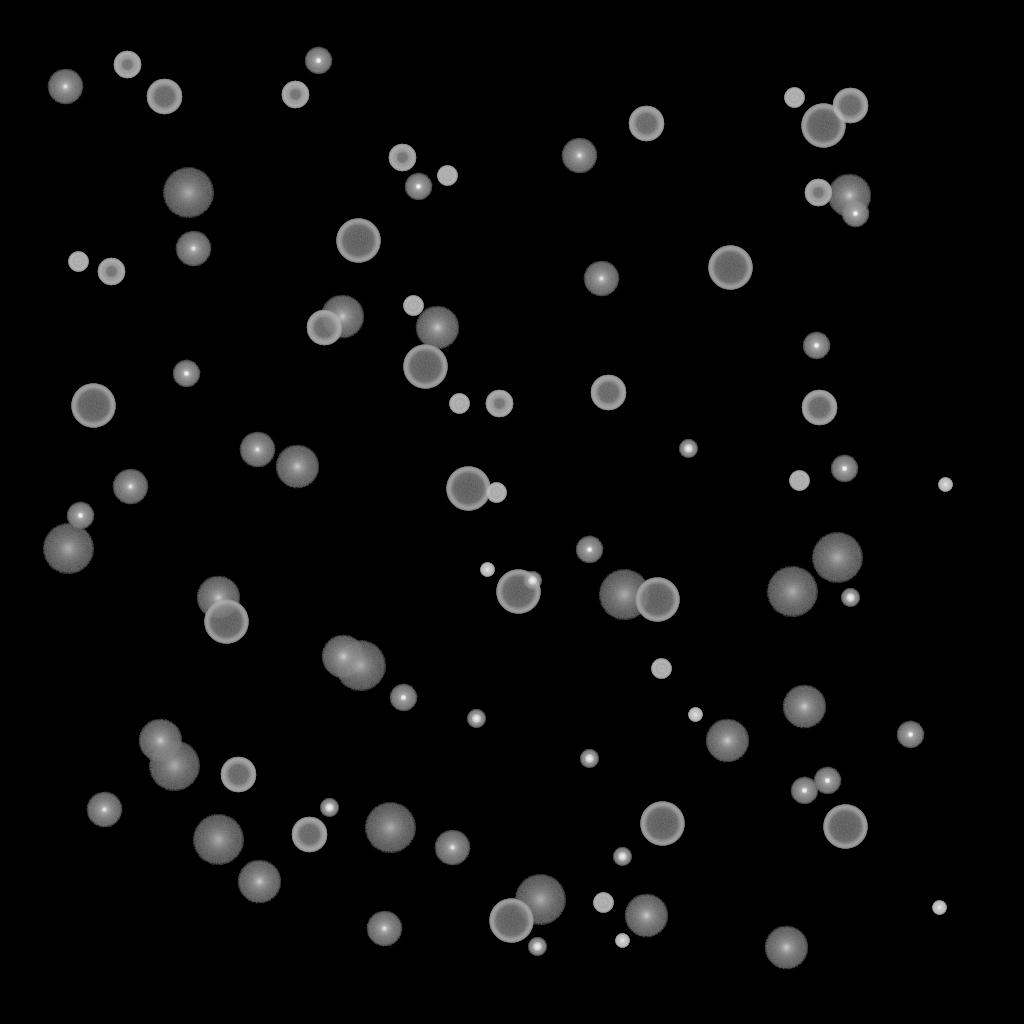depth:-10: (830, 455, 858, 483), (66, 502, 94, 530), (813, 767, 841, 795), (896, 721, 924, 749), (304, 47, 332, 75), (172, 360, 200, 388), (389, 684, 417, 712), (841, 200, 869, 228), (802, 332, 830, 360), (575, 536, 603, 564), (404, 173, 432, 201), (790, 777, 818, 805)
depth:-20: (528, 938, 546, 956), (523, 572, 541, 590), (613, 848, 631, 866), (580, 750, 598, 768), (467, 710, 485, 728), (679, 440, 697, 458), (841, 589, 859, 607), (320, 799, 338, 817)
depth:-30: (938, 478, 952, 492), (932, 901, 946, 915), (480, 563, 494, 577), (688, 708, 702, 722), (615, 934, 629, 948)
depth:-40: (486, 483, 506, 503), (403, 296, 423, 316), (651, 659, 671, 679), (68, 252, 88, 272), (437, 166, 457, 186), (784, 88, 804, 108), (593, 893, 613, 913), (789, 471, 809, 491), (449, 394, 469, 414)
depth:-50: (804, 179, 832, 207), (113, 51, 141, 79), (97, 258, 125, 286), (388, 144, 416, 172), (485, 390, 513, 418), (281, 81, 309, 109)
depth:-60: (306, 310, 342, 346), (146, 79, 182, 115), (628, 106, 664, 142), (220, 757, 256, 793), (590, 375, 626, 411), (801, 390, 837, 426), (832, 88, 868, 124), (291, 817, 327, 853)
depth:-70: (336, 219, 380, 263), (635, 578, 679, 622), (708, 246, 752, 290), (71, 384, 115, 428), (801, 104, 845, 148), (640, 802, 684, 846), (823, 805, 867, 849), (496, 570, 540, 614), (204, 600, 248, 644), (403, 345, 447, 389), (446, 467, 490, 511), (489, 899, 533, 943)
depth:0: (434, 830, 470, 866), (561, 138, 597, 174), (366, 911, 402, 947), (47, 69, 83, 105), (175, 231, 211, 267), (112, 469, 148, 505), (86, 792, 122, 828), (583, 261, 619, 297), (239, 432, 275, 468)
depth:10: (320, 295, 364, 339), (624, 894, 668, 938), (138, 719, 182, 763), (196, 576, 240, 620), (782, 685, 826, 729), (827, 174, 871, 218), (237, 860, 281, 904), (415, 306, 459, 350), (764, 926, 808, 970), (321, 635, 365, 679), (705, 719, 749, 763), (275, 445, 319, 489)
depth:20: (148, 741, 200, 791), (42, 524, 94, 574), (192, 815, 244, 865), (766, 567, 818, 617), (811, 533, 863, 583), (514, 875, 566, 925), (598, 570, 650, 620), (364, 803, 416, 853), (334, 641, 386, 691), (162, 168, 214, 218)
